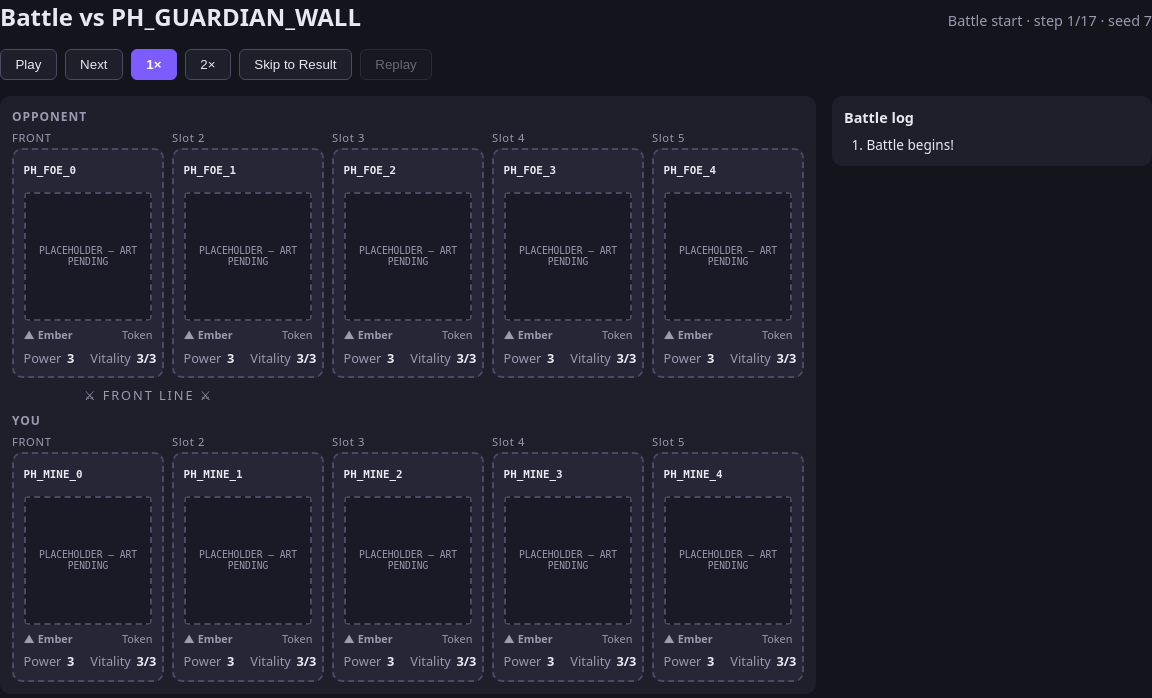
BattleScreen › labels draws clearly while showing they are awarded to the player
Click the button "Skip to Result" at (295, 65), box top-left (239, 49), bottom-right (352, 80)
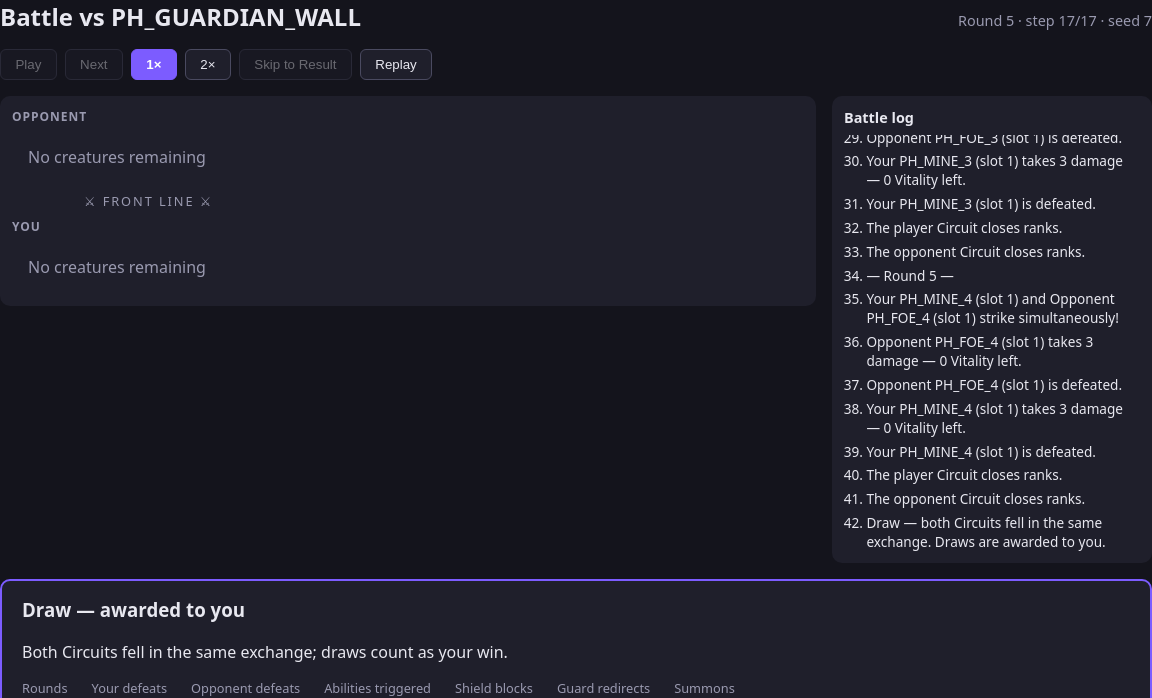
Expected: the heading "Draw — awarded to you" is shown, top-left (22, 597), bottom-right (245, 622)
Expected: the text "Both Circuits fell in the same exchange; draws count as your win." is shown, top-left (22, 641), bottom-right (508, 663)
